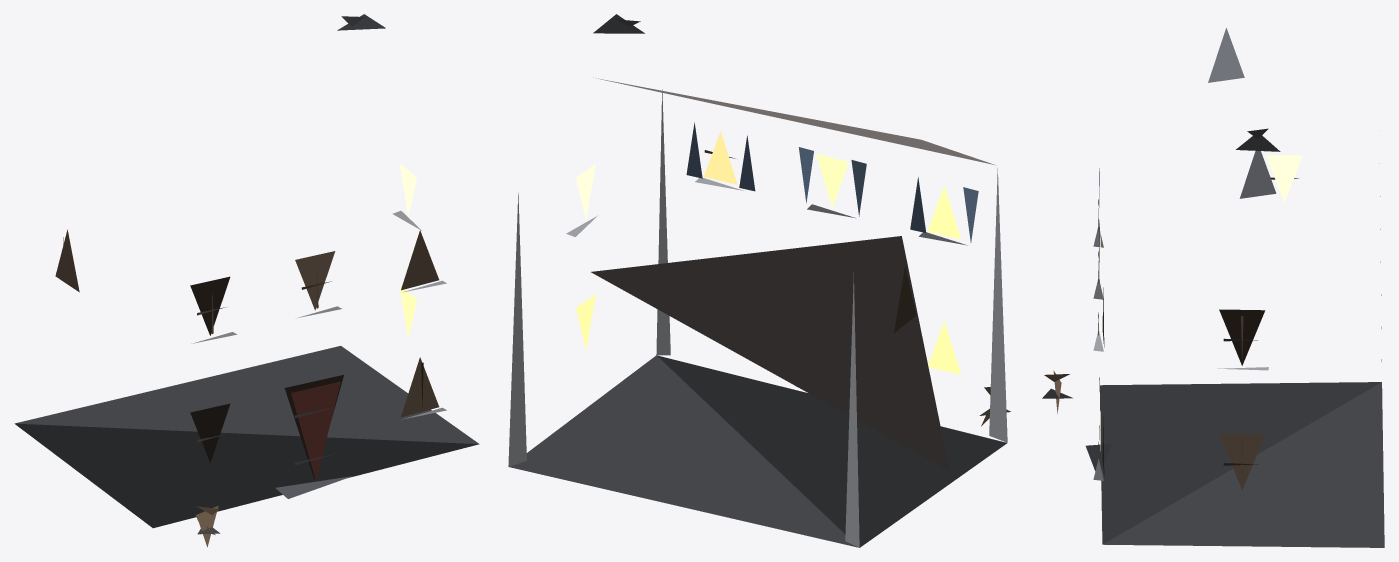
The model's file is bree_house_stone_1_lod2.glb.
The picture shows the model from 3 angles, left to right: view 1: azimuth 30°, elevation 25°; view 2: azimuth 150°, elevation 25°; view 3: azimuth 270°, elevation 25°; orthographic projection. The views are drawn at different scales.
Parts seen in each view (by area): view 1: bree_house_stone_1_lod2; view 2: bree_house_stone_1_lod2; view 3: bree_house_stone_1_lod2.
Part boxes in pixels (x1=…): bree_house_stone_1_lod2: x1=14, y1=14, x2=479, y2=547; bree_house_stone_1_lod2: x1=508, y1=14, x2=1010, y2=547; bree_house_stone_1_lod2: x1=1042, y1=28, x2=1384, y2=547.
Bounding box in the file's own units: 7.8 × 8.45 × 6.53.
